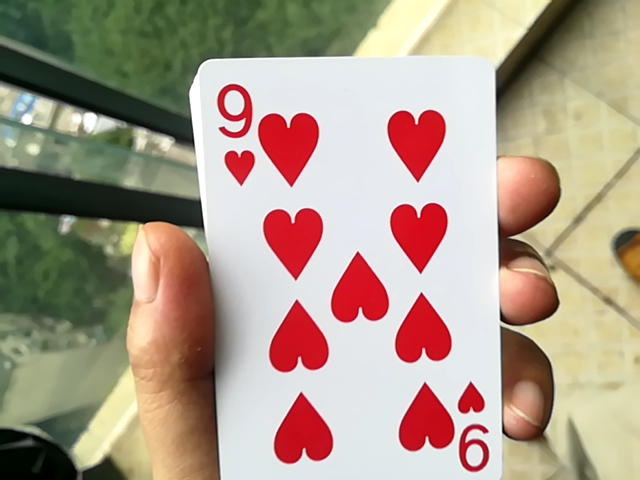hx 9: (170, 56, 499, 480)
